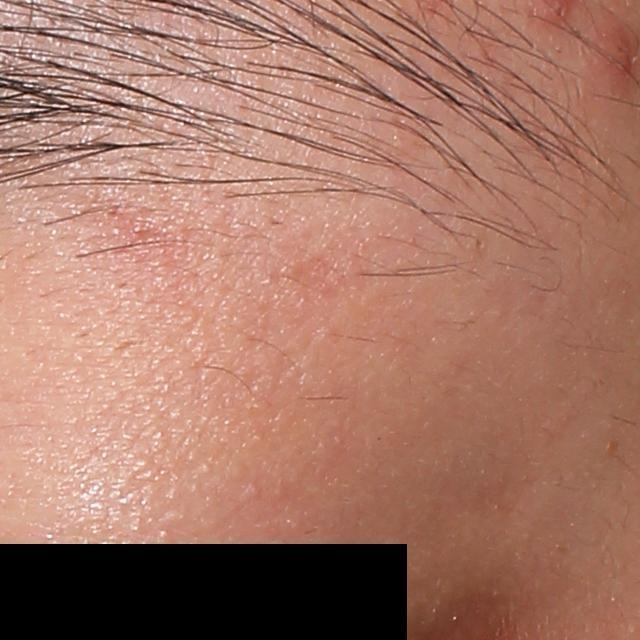papule: (585, 10, 637, 100)
